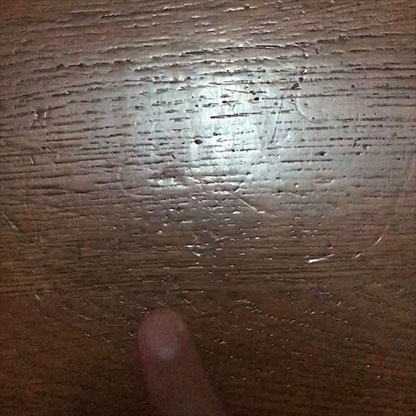fingertip: (129, 303, 201, 375)
